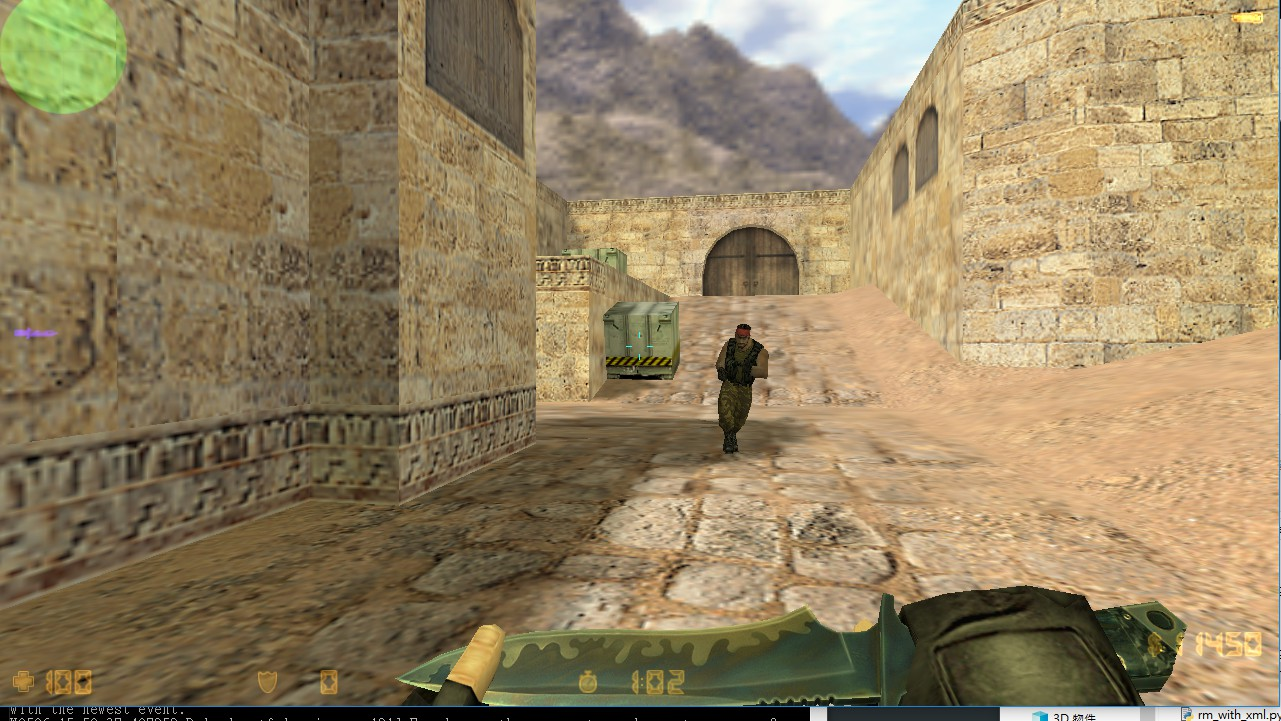person: (710, 318, 774, 462)
